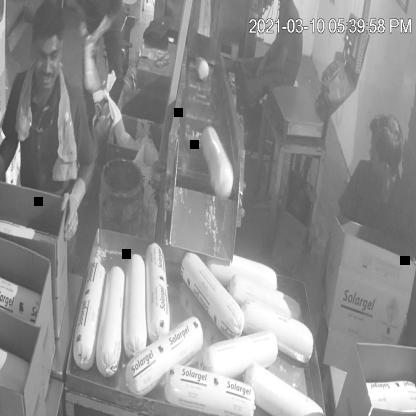glove: (48, 163, 89, 245), (0, 147, 8, 209)
no_glove: (312, 232, 335, 321), (252, 40, 295, 78)
